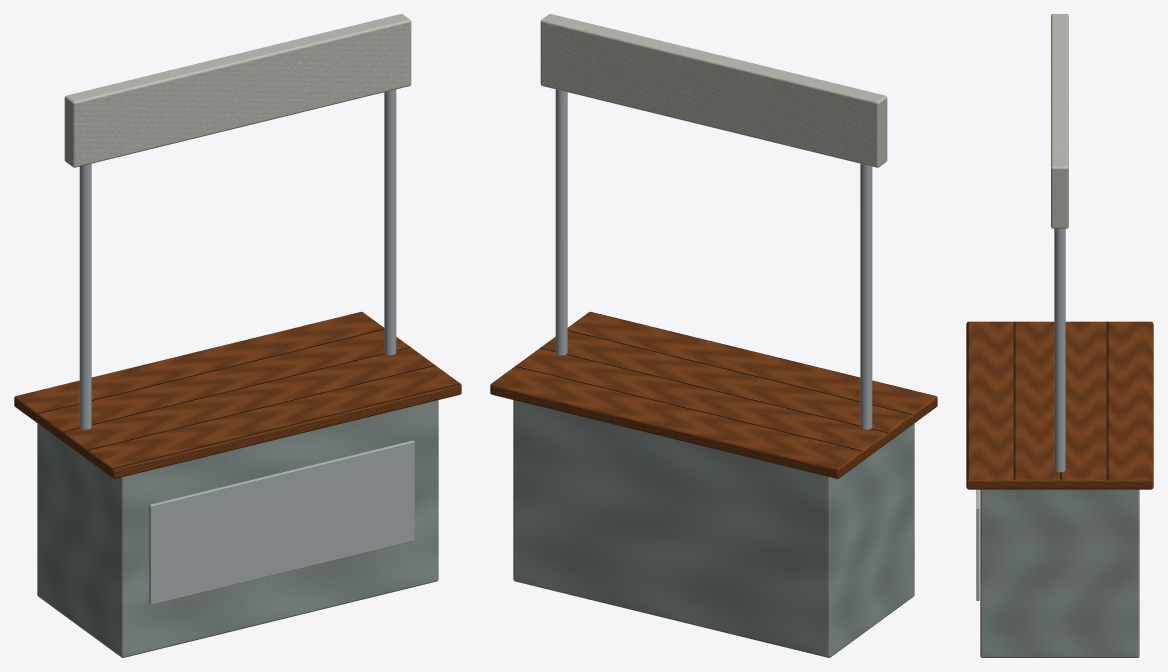
File: liminal-spaces-kit-empty-kiosk-b6f7eb26__25274.glb
The picture shows the model from 3 angles, left to right: view 1: azimuth 30°, elevation 25°; view 2: azimuth 150°, elevation 25°; view 3: azimuth 270°, elevation 25°; orthographic projection. The views are drawn at different scales.
Parts seen in each view (by area): view 1: empty-kiosk; view 2: empty-kiosk; view 3: empty-kiosk.
Boxes of the visible parts, x1,y1,x2,y2 form: empty-kiosk: [14, 14, 461, 657]; empty-kiosk: [490, 14, 937, 657]; empty-kiosk: [966, 14, 1153, 657].
Bounding box in the file's own units: 1.65 × 2.4 × 0.82.
4 materials, 3 textured.
